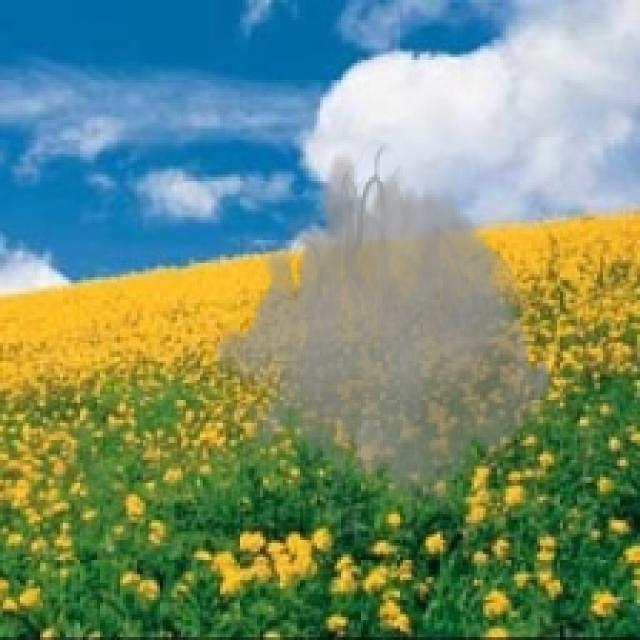Smoke: (212, 137, 554, 543)
